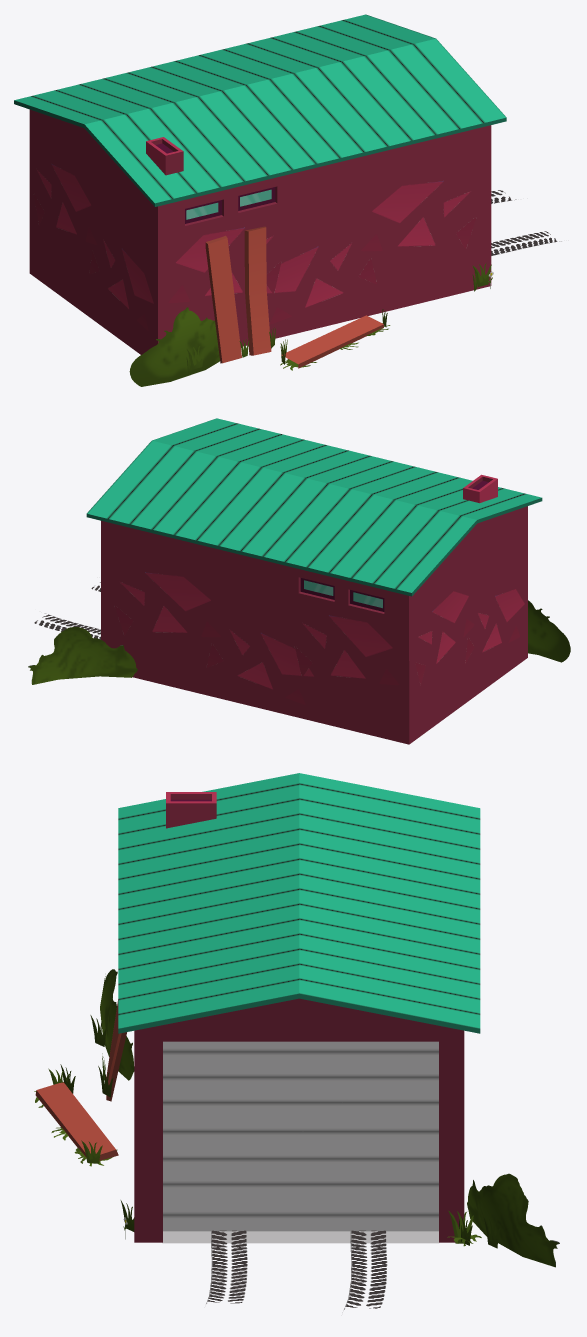
The model's file is Garage002.fbx.
The picture shows the model from 3 angles, top to bottom: view 1: azimuth 30°, elevation 25°; view 2: azimuth 150°, elevation 25°; view 3: azimuth 270°, elevation 25°; orthographic projection. The views are drawn at different scales.
Visible parts, largest first — view 1: Garage002; view 2: Garage002; view 3: Garage002, Garage_Door.
Boxes of the visible parts, x1,y1,x2,y2 form: Garage002: [14, 14, 561, 386]; Garage002: [28, 418, 570, 744]; Garage002: [34, 773, 559, 1312]; Garage_Door: [163, 1041, 438, 1231].
Bounding box in the file's own units: 634 × 247 × 476.
